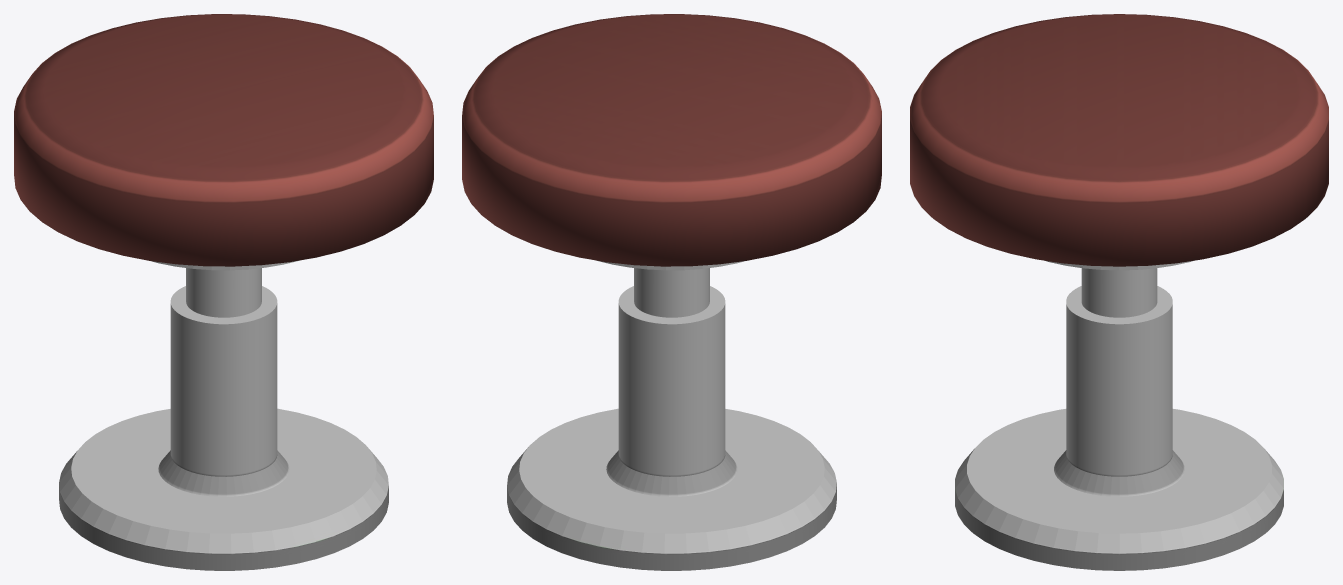
File: 게임기 의자 0.fbx
3 views of the same model, side by side, from view 1: azimuth 30°, elevation 25°; view 2: azimuth 150°, elevation 25°; view 3: azimuth 270°, elevation 25° (orthographic).
Visible parts, largest first — view 1: Cylinder005; view 2: Cylinder005; view 3: Cylinder005.
Part boxes in pixels (x1,y1,x2,y2): Cylinder005: (14,14,433,570); Cylinder005: (462,14,881,570); Cylinder005: (910,14,1328,570).
Bounding box in the file's own units: 21.82 × 23.56 × 21.77.
1 material, 1 textured.
